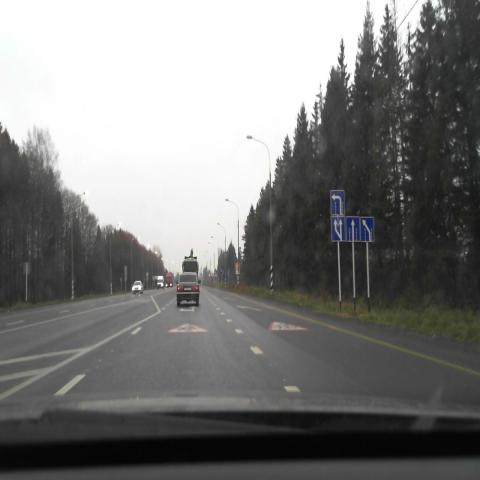5_15_2: (360, 216, 374, 242), (330, 190, 344, 216), (346, 216, 360, 241)
5_15_3: (330, 217, 344, 241)
